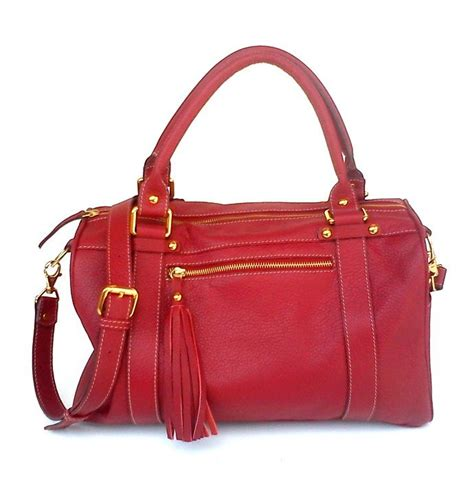cuero: (30, 45, 446, 443)
